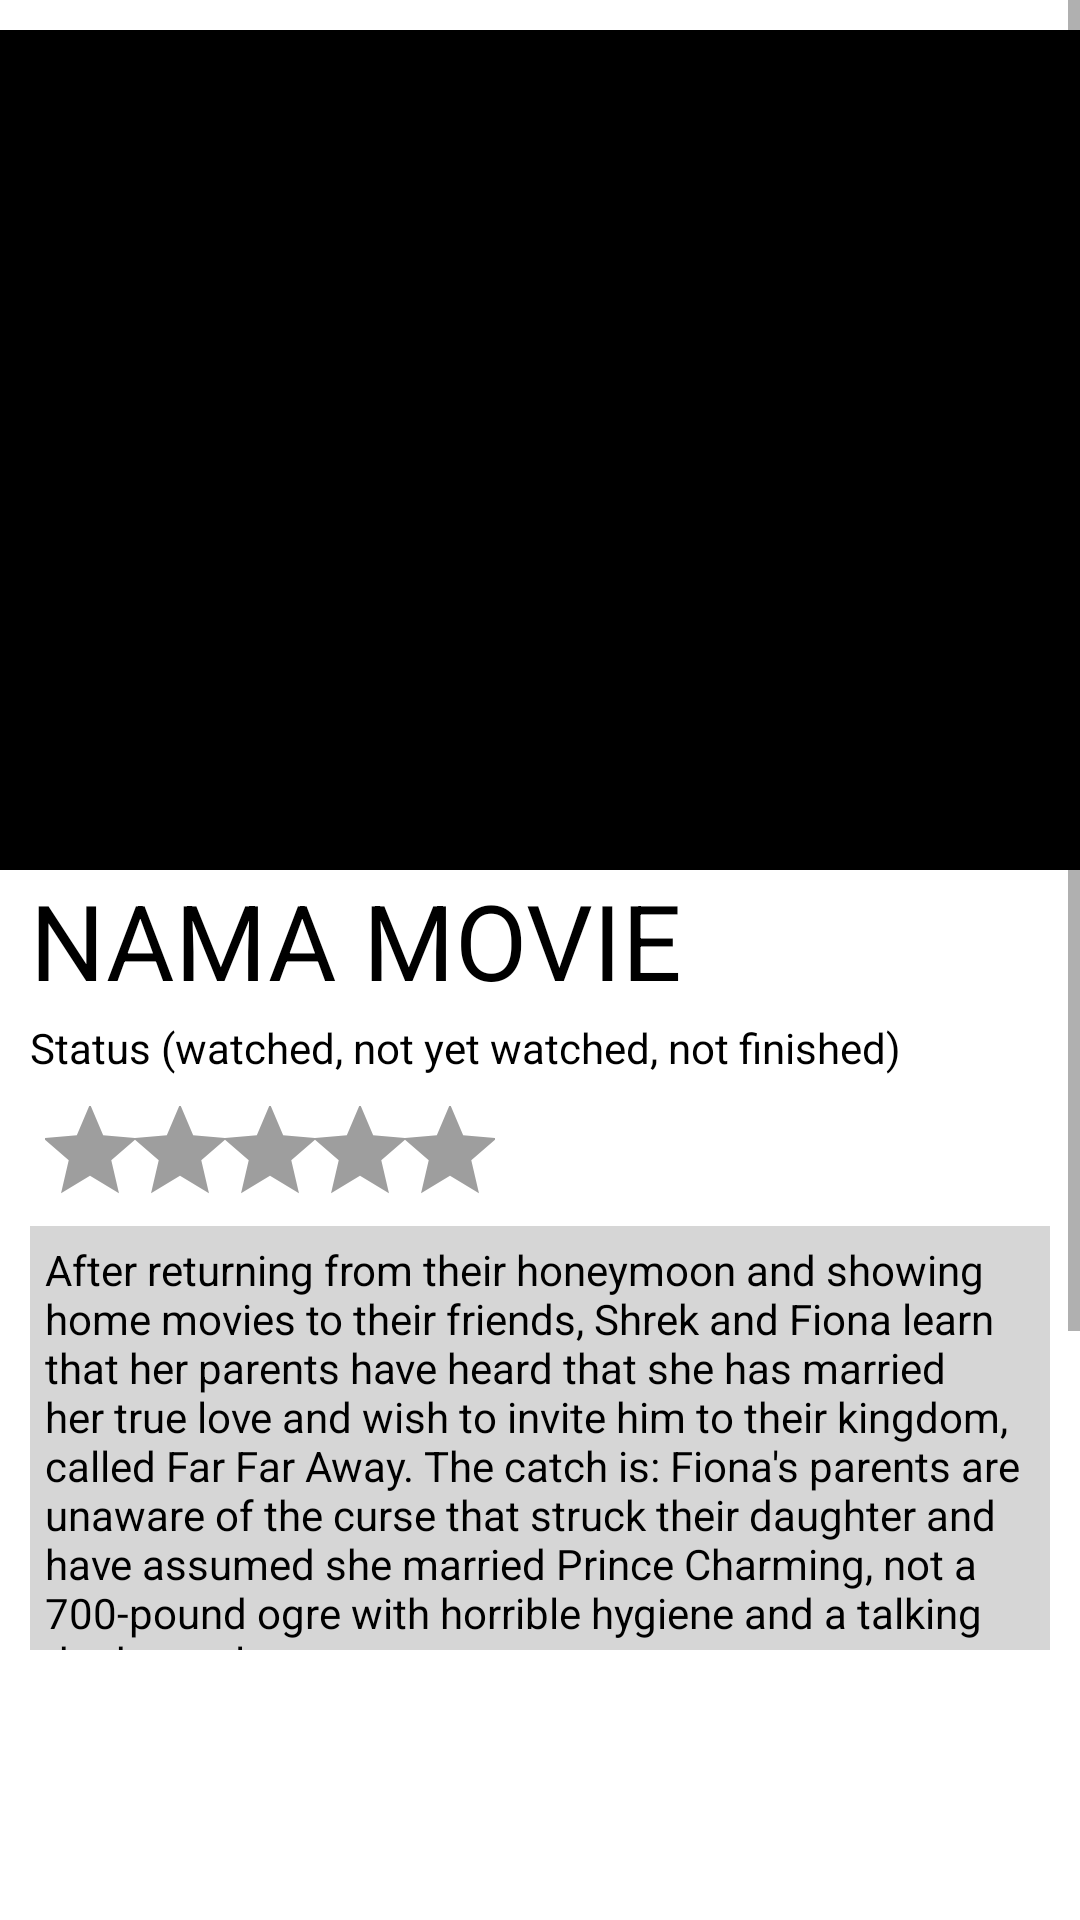

Screen size 1080×1920. Icon name, then its box in pixels as (left=x1, top=y1, right=x2, bottom=y2):
star empty: (left=45, top=1106, right=135, bottom=1193), (left=135, top=1106, right=225, bottom=1193), (left=225, top=1106, right=315, bottom=1193), (left=315, top=1106, right=405, bottom=1193), (left=405, top=1106, right=495, bottom=1193)
